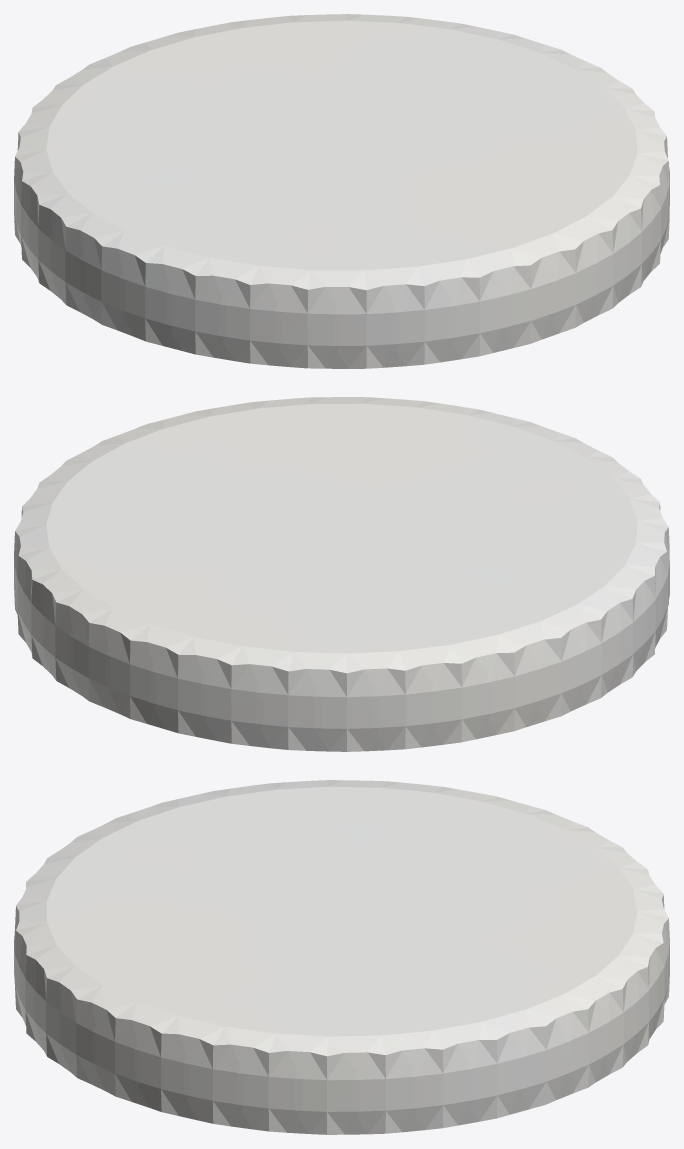
The model's file is pearl.glb.
The picture shows the model from 3 angles, top to bottom: view 1: azimuth 30°, elevation 25°; view 2: azimuth 150°, elevation 25°; view 3: azimuth 270°, elevation 25°; orthographic projection.
Visible parts, largest first — view 1: disc-convcol; view 2: disc-convcol; view 3: disc-convcol.
Boxes of the visible parts, box(x1,y1,x2,y2) form: disc-convcol: box(14, 14, 669, 368); disc-convcol: box(14, 397, 669, 751); disc-convcol: box(14, 780, 669, 1134).
Bounding box in the file's own units: 0.0416 × 0.00642 × 0.0416.
1 material, 1 textured.
